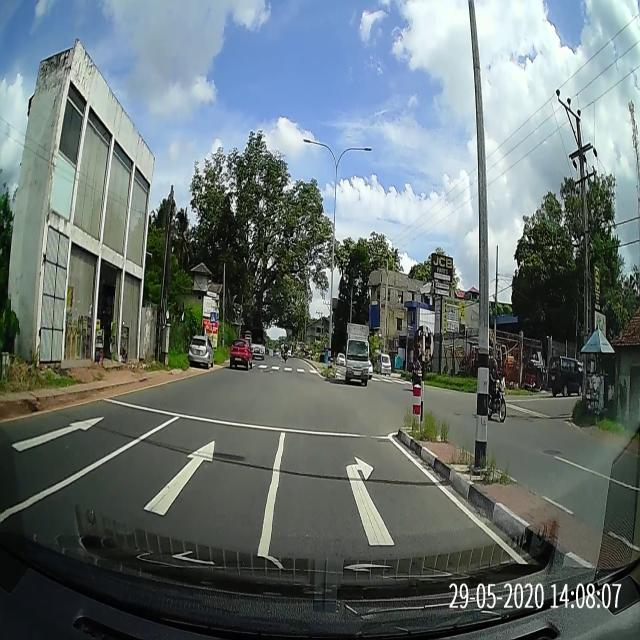Strelka vpered: (142, 439, 215, 516), (11, 417, 106, 452)
Strelka vpravo: (346, 455, 395, 545)
